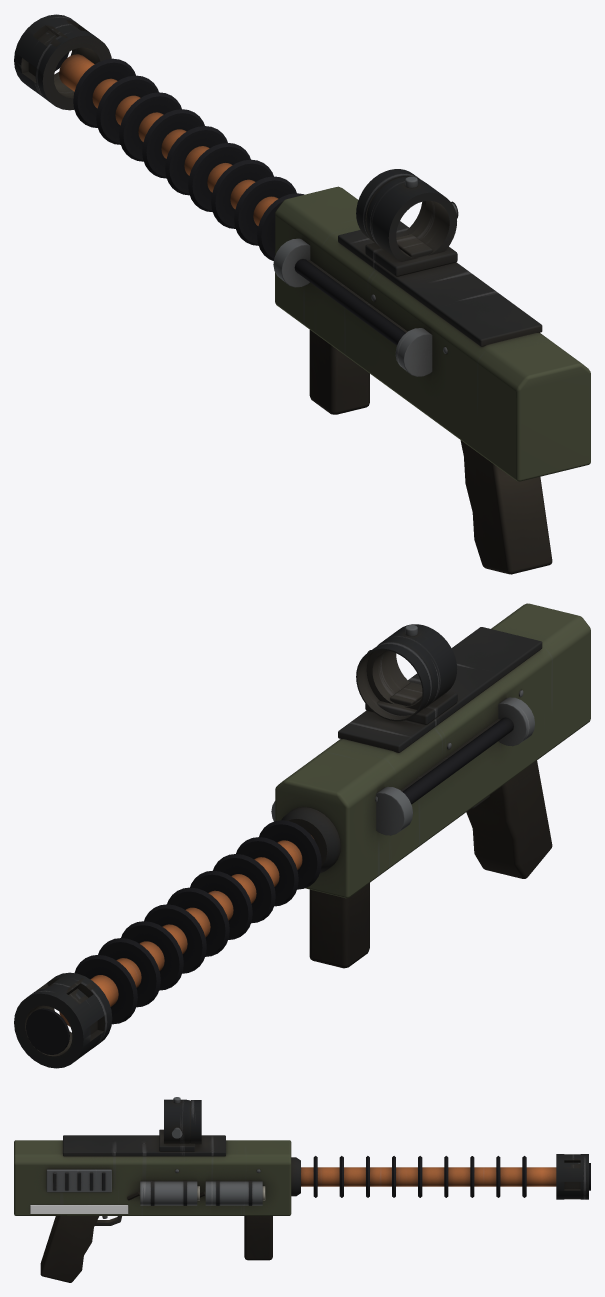
Rendered from weapon_photon.gltf.
The picture shows the model from 3 angles, top to bottom: view 1: azimuth 30°, elevation 25°; view 2: azimuth 150°, elevation 25°; view 3: azimuth 270°, elevation 25°; orthographic projection. The views are drawn at different scales.
Visible parts, largest first — view 1: Body; view 2: Body; view 3: Body, Vent.
Boxes of the visible parts, left/top/right/bottom form: Body: left=14, top=14, right=590, bottom=574; Body: left=14, top=603, right=590, bottom=1068; Body: left=14, top=1097, right=590, bottom=1282; Vent: left=46, top=1169, right=111, bottom=1192.
Size of the model in its own units: 0.1057 by 0.2428 by 0.7075.
8 materials, 8 textured.
